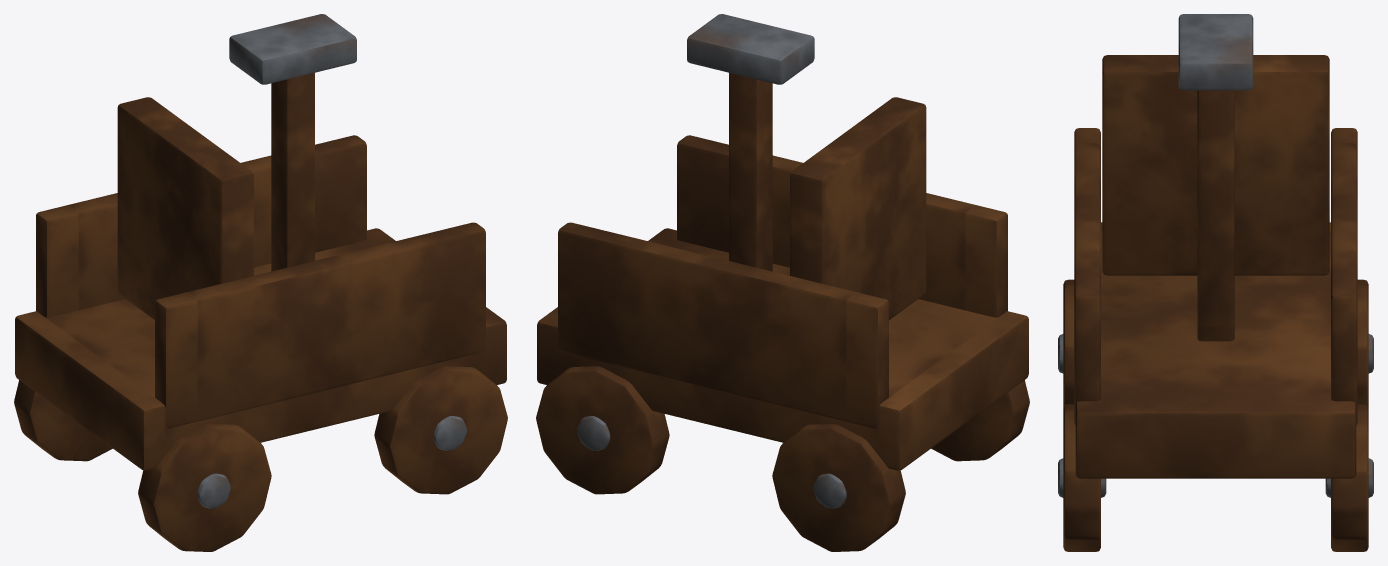
The model's file is unit_siege.fbx.
The picture shows the model from 3 angles, left to right: view 1: azimuth 30°, elevation 25°; view 2: azimuth 150°, elevation 25°; view 3: azimuth 270°, elevation 25°; orthographic projection. The views are drawn at different scales.
Visible parts, largest first — view 1: unit_siege; view 2: unit_siege; view 3: unit_siege.
Part boxes in pixels (x1,y1,x2,y2): unit_siege: (14,14,507,551); unit_siege: (536,14,1029,551); unit_siege: (1058,14,1373,551).
Size of the model in its own units: 1.7 by 1.91 by 1.18.
